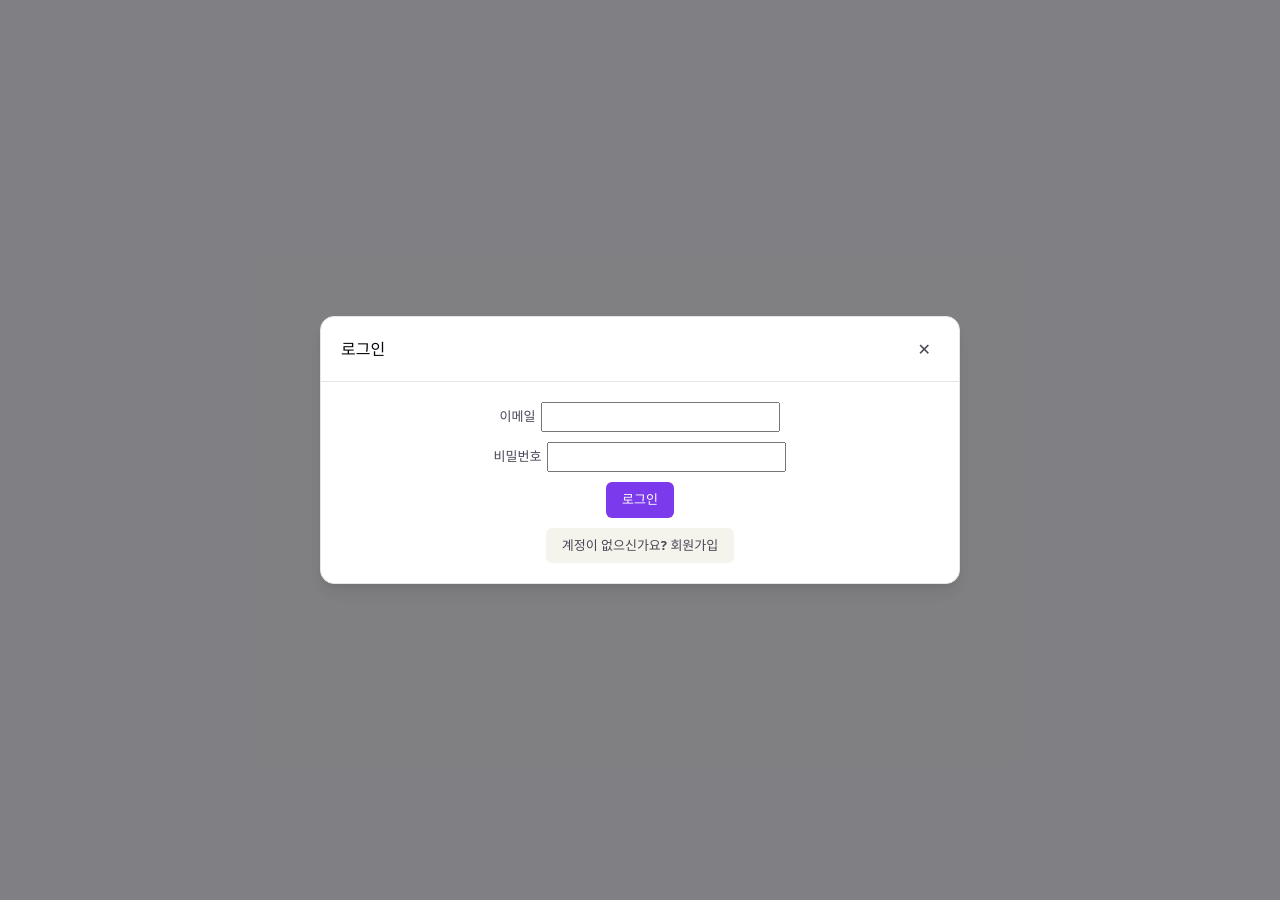
it: AuthModal › shows an error and stays open when sign-in fails
Type "a@b.com" into the field labelled "이메일". click: (661, 417)
box: [541,402,780,432]
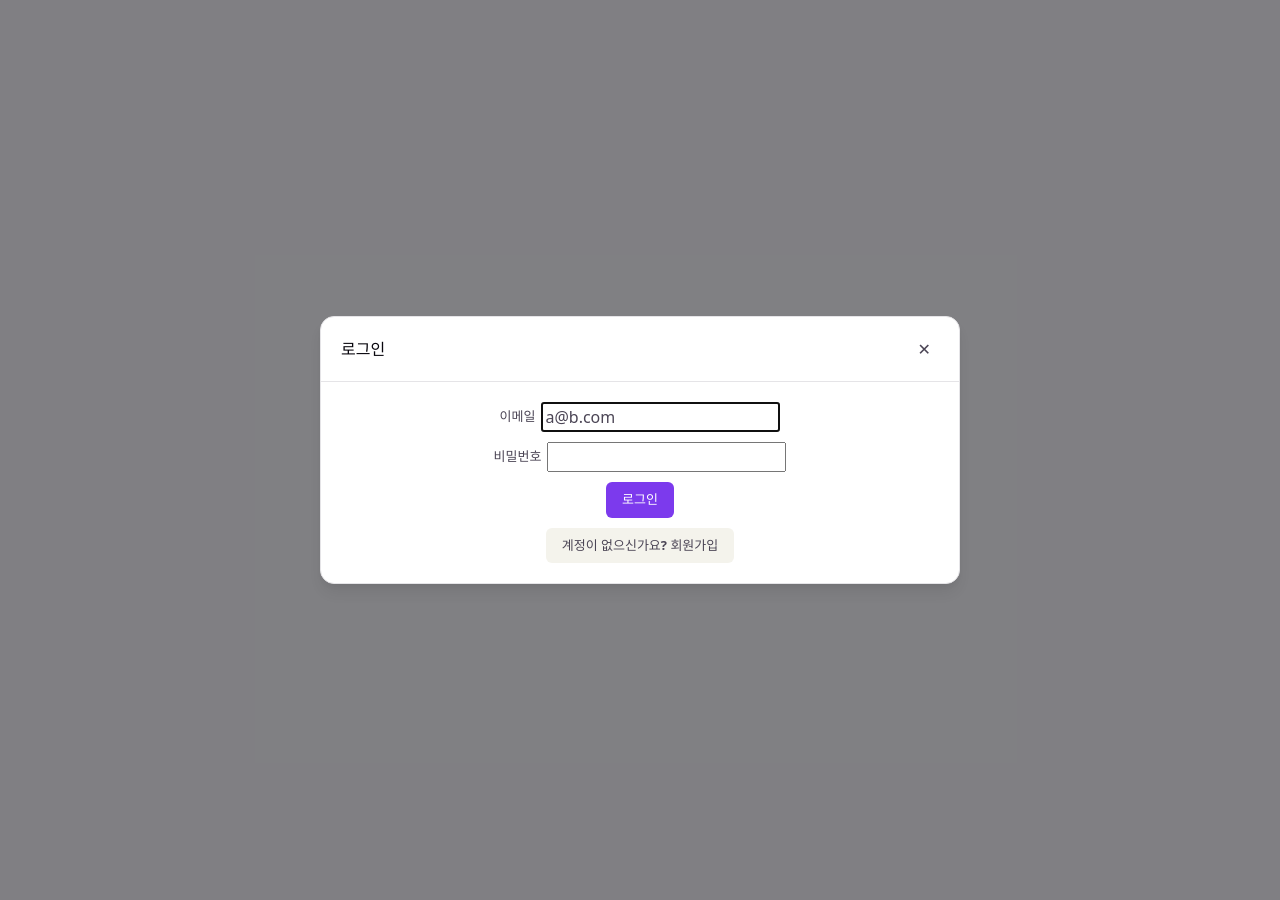
Type "wrongpass" into the password field labelled "비밀번호". click: (667, 457)
box: [547,442,786,472]
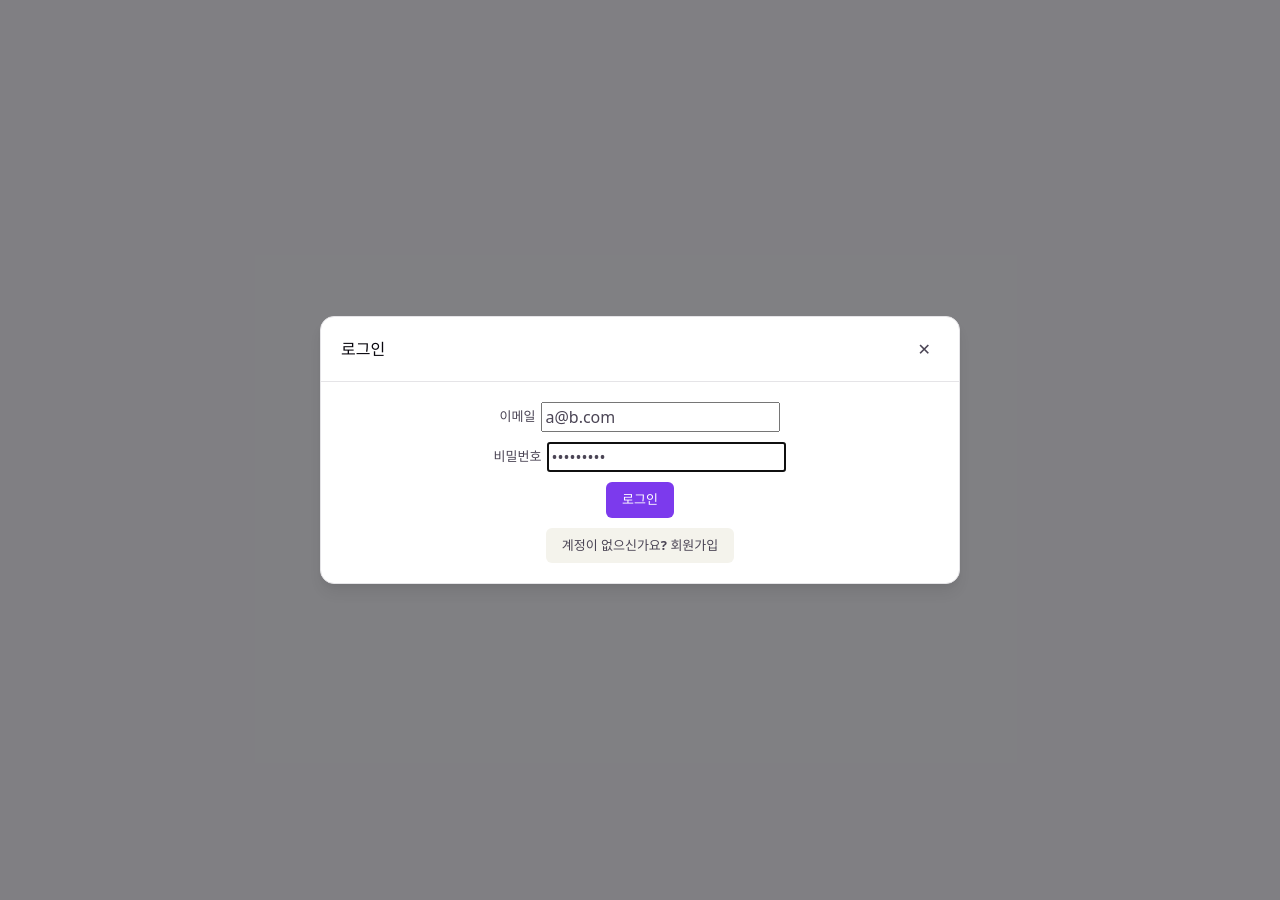
Click the button "로그인". click: (640, 500)
box: [606,482,674,518]
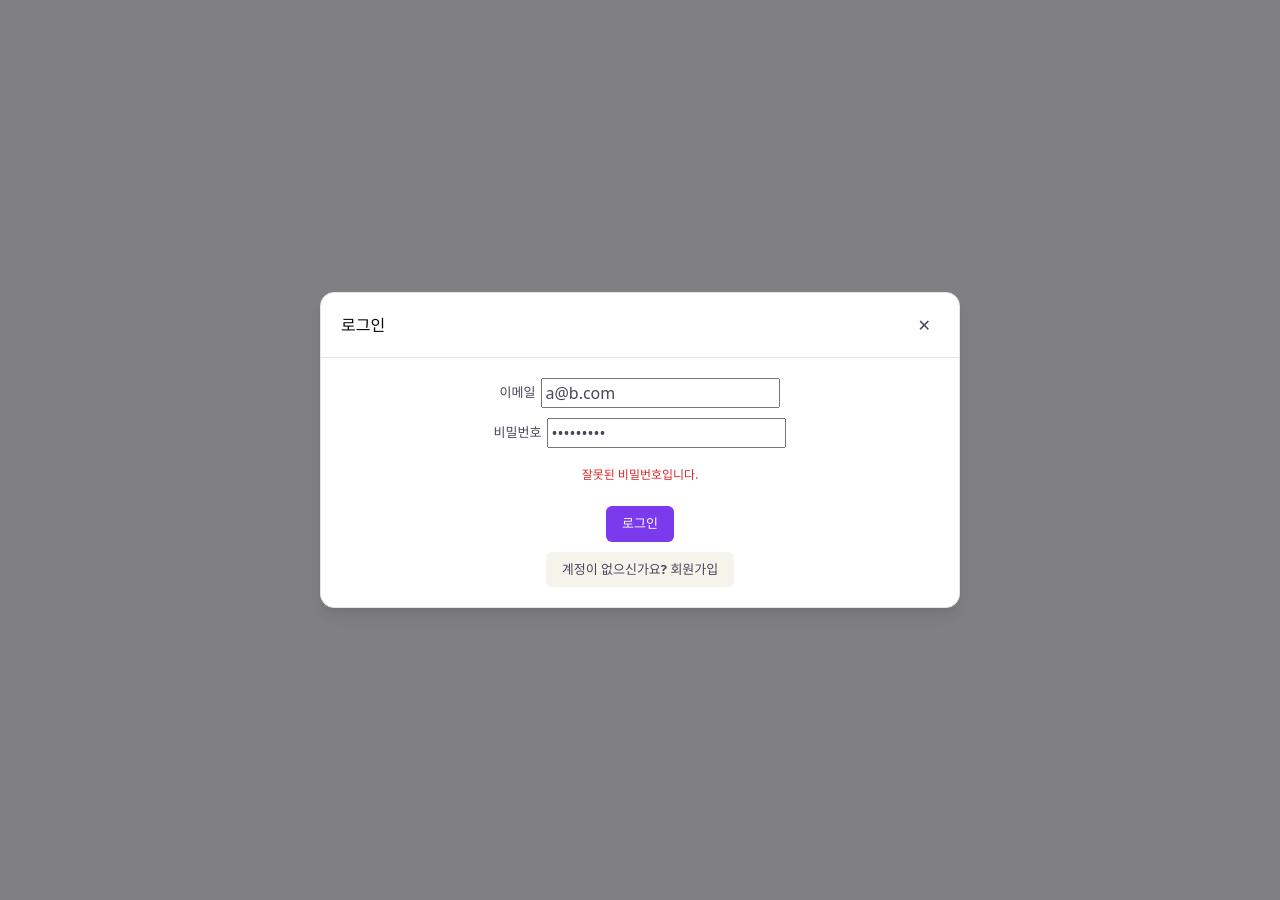
Now the text "잘못된 비밀번호입니다." is shown, box [582,466,698,484]
